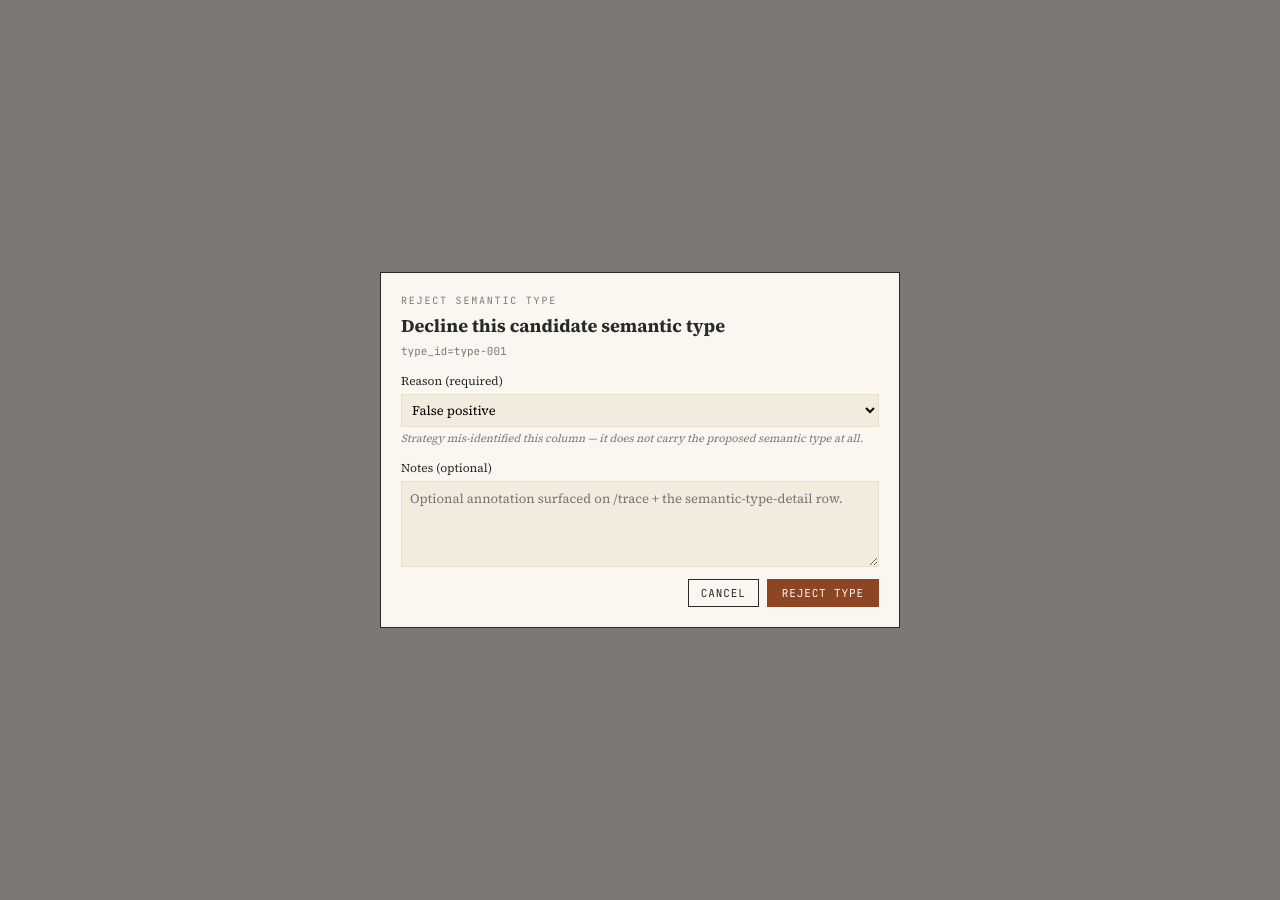
Test: SemanticTypeRejectionModal › surfaces an error banner when the action returns ok=false
Step 1. Click the button with test id "semantic-type-reject-submit" → point(823, 593), box [767, 579, 879, 607]
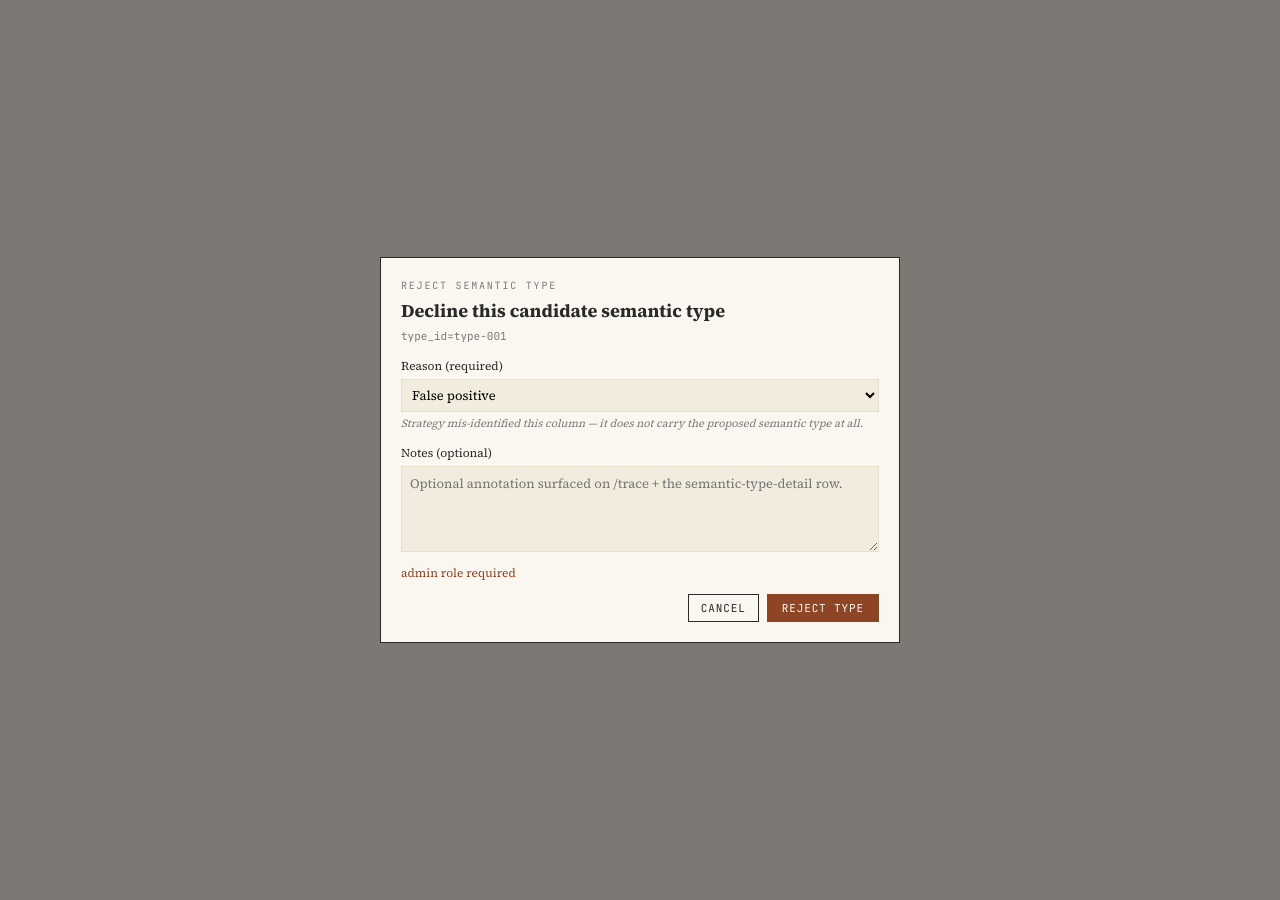
Now the message with test id "semantic-type-reject-error" reads "admin role required", box [401, 565, 516, 581]
